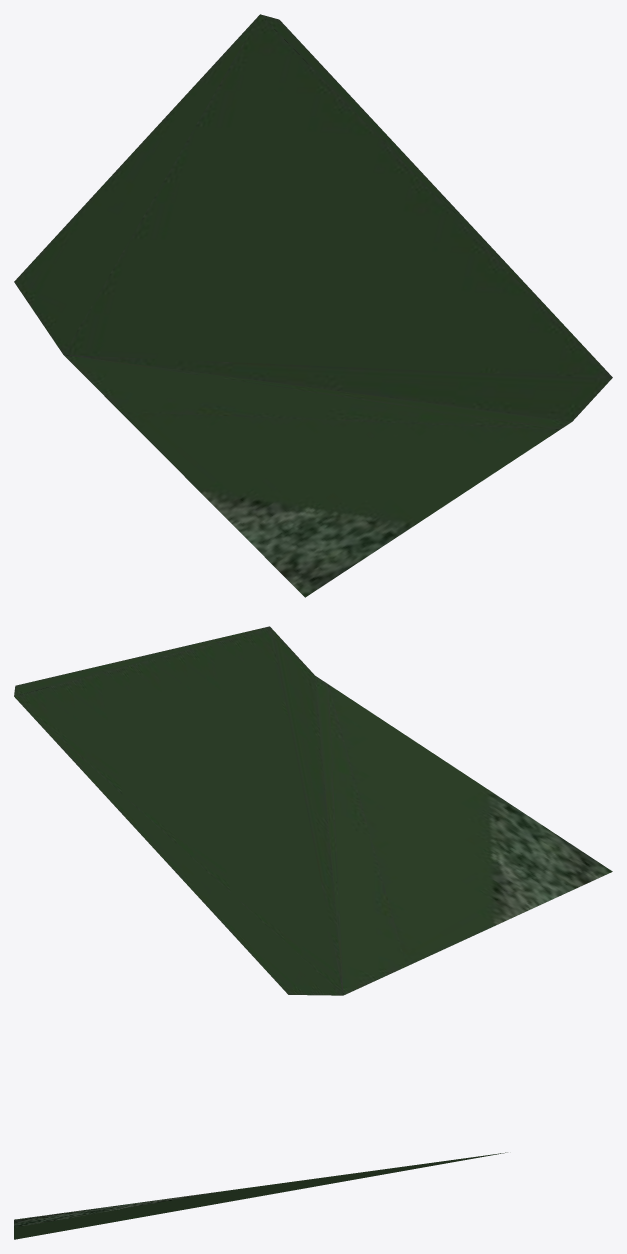
3 views of the same model, one above another, from view 1: azimuth 30°, elevation 25°; view 2: azimuth 150°, elevation 25°; view 3: azimuth 270°, elevation 25° (orthographic). The views are drawn at different scales.
Bounding box in the file's own units: 3.6 × 3.47 × 5.9.
Materials: 2 (2 with a texture image).
